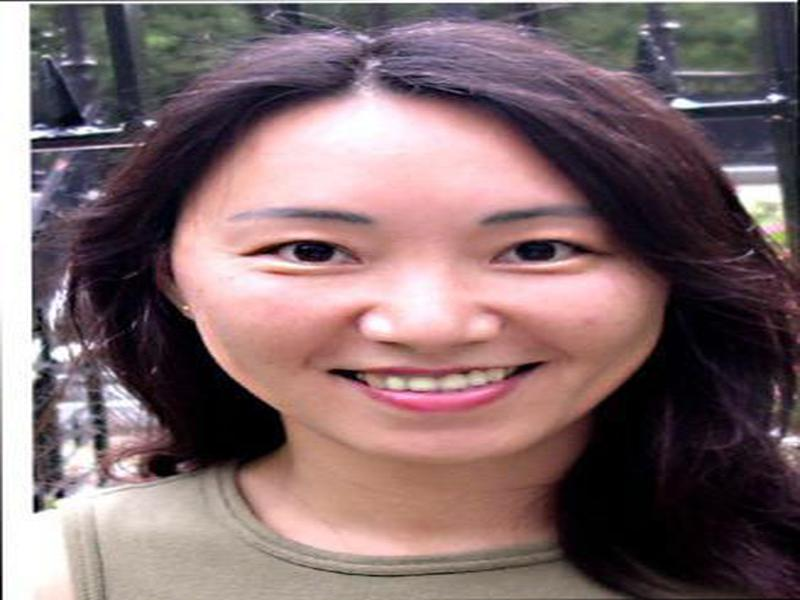without_mask: (178, 165, 644, 465)
